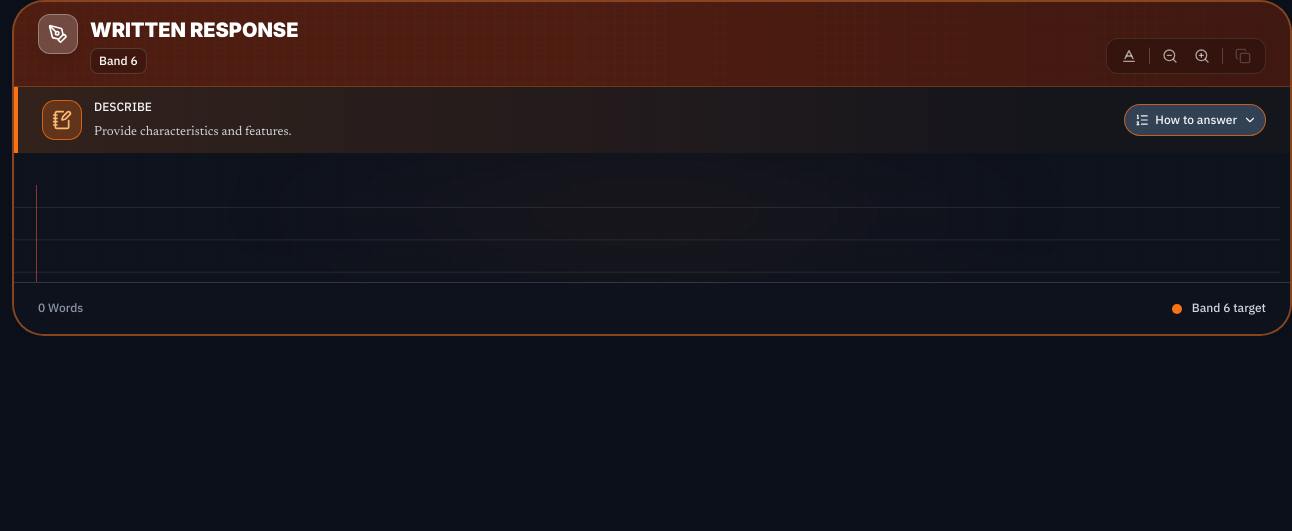
it: the verb brief › the way in to the method › marks itself read once it has been opened and shut again
The width and height of the screenshot is (1292, 531).
expect the text "Read" is not shown: met
Click the button "How to answer".
click(1195, 120)  # box [1124,104,1266,136]
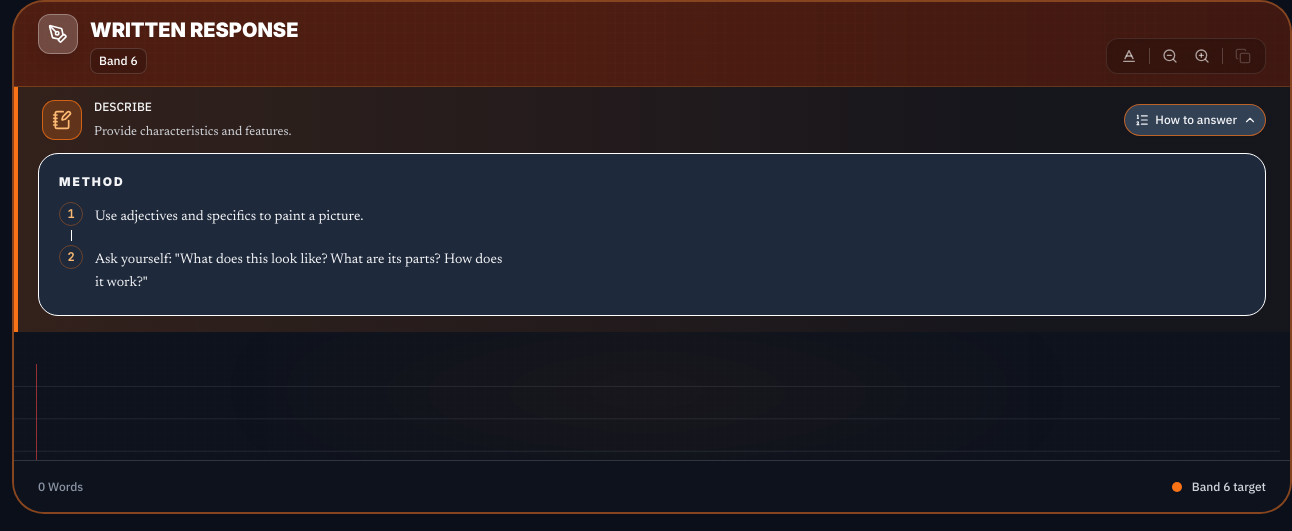
Click the button "How to answer".
click(1195, 120)  # box [1124,104,1266,136]
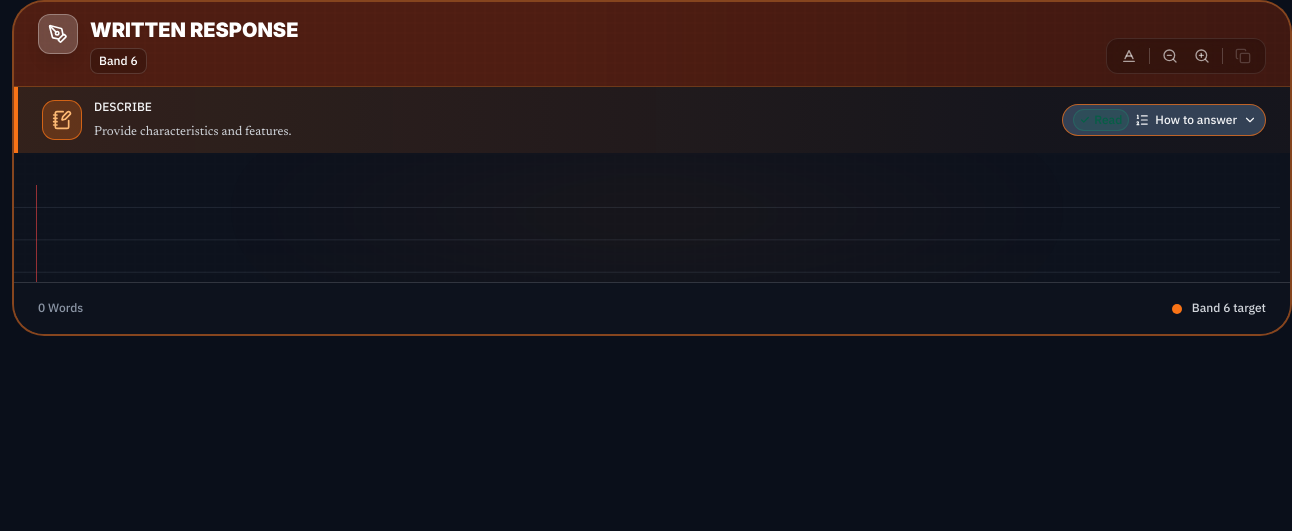
expect the text "Read" is shown: met, box [1073,109,1129,131]
